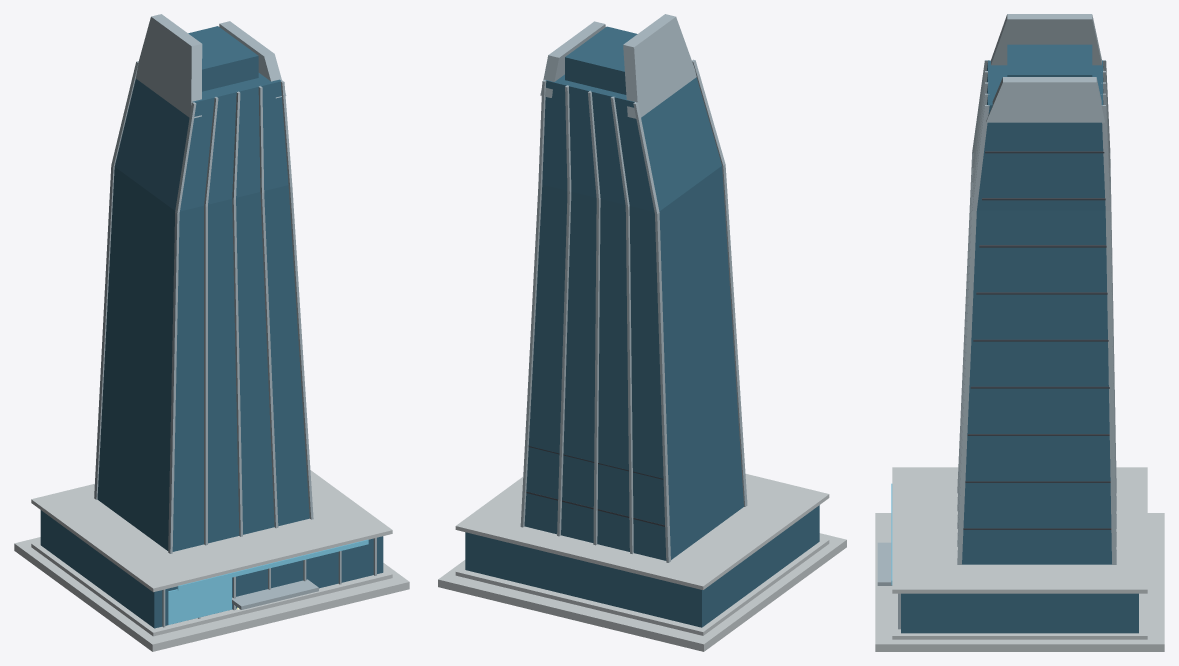
The model's file is Atlantis_TechComTower_v1.glb.
The picture shows the model from 3 angles, left to right: view 1: azimuth 30°, elevation 25°; view 2: azimuth 150°, elevation 25°; view 3: azimuth 270°, elevation 25°; orthographic projection. The views are drawn at different scales.
Visible parts, largest first — view 1: TechComTower_Media_BlueGlazing, TechComTower_Media_PearlConcrete, TechComTower_Media_BrushedSilver, TechCom_Display_Main, TechCom_Ticker; view 2: TechComTower_Media_BlueGlazing, TechComTower_Media_PearlConcrete, TechComTower_Media_BrushedSilver; view 3: TechComTower_Media_BlueGlazing, TechComTower_Media_PearlConcrete, TechComTower_Media_BrushedSilver, TechComTower_Media_Graphite.
Part boxes in pixels (x1,y1,x2,y2): TechComTower_Media_BlueGlazing: (40,26,383,628); TechComTower_Media_PearlConcrete: (14,470,409,651); TechComTower_Media_BrushedSilver: (94,14,376,627); TechCom_Display_Main: (168,577,231,624); TechCom_Ticker: (177,539,368,590); TechComTower_Media_BlueGlazing: (465,26,819,627); TechComTower_Media_PearlConcrete: (438,474,846,651); TechComTower_Media_BrushedSilver: (520,14,747,562); TechComTower_Media_BlueGlazing: (901,44,1138,633); TechComTower_Media_PearlConcrete: (875,467,1164,651); TechComTower_Media_BrushedSilver: (877,14,1116,629); TechComTower_Media_Graphite: (963,151,1111,529).
Size of the model in its own units: 73 by 145 by 68.
